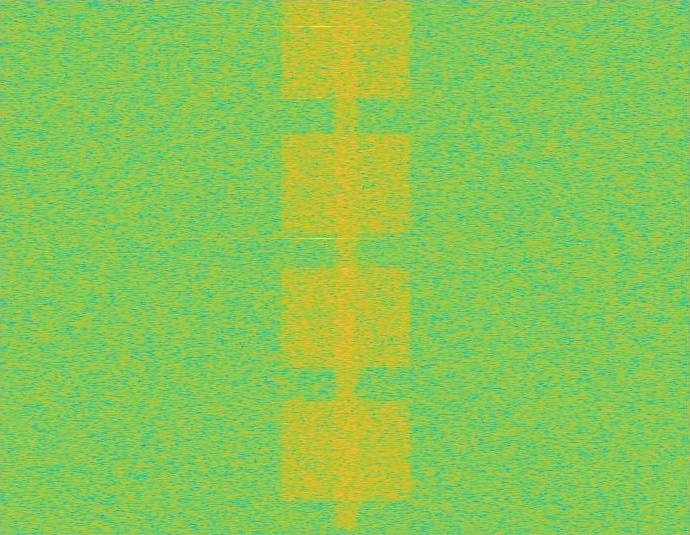5G: (277, 0, 415, 534)
DSSS: (331, 0, 362, 534)
Radar: (315, 0, 329, 534)
